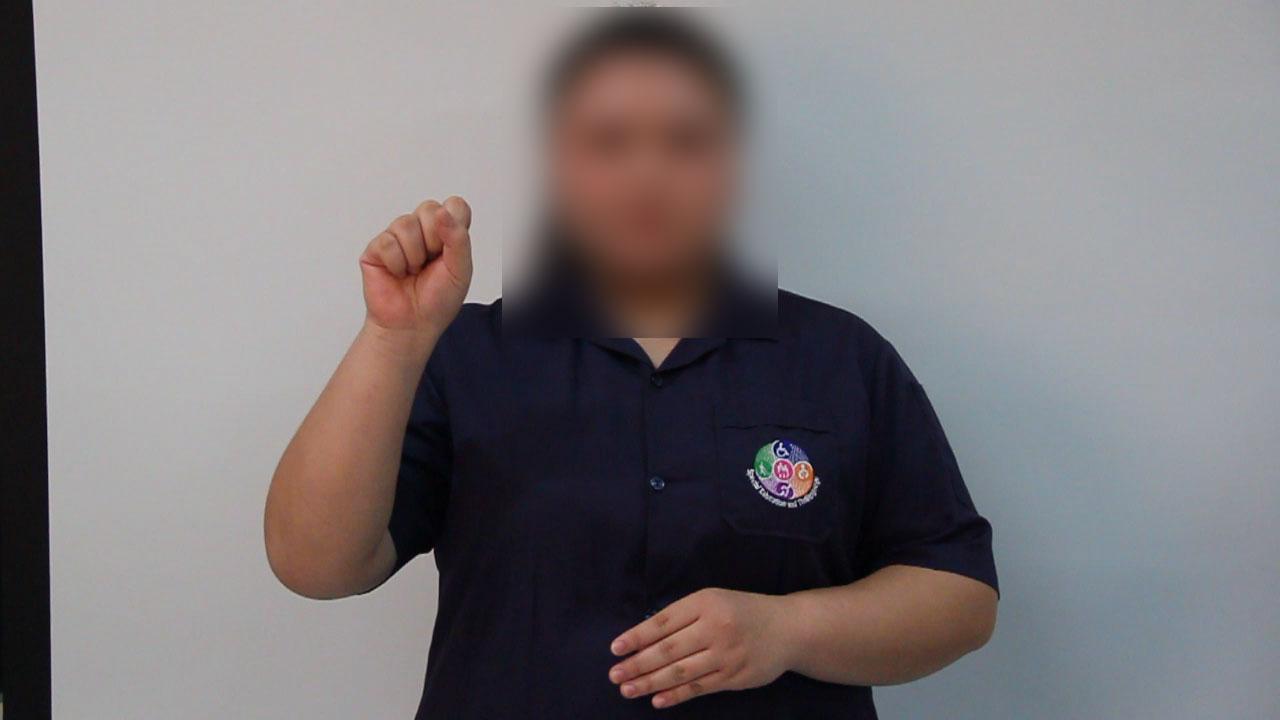sor: (338, 186, 490, 346)
